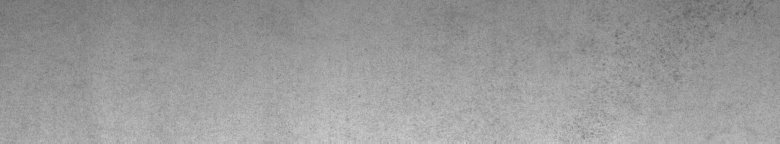ib: (568, 4, 760, 132)
